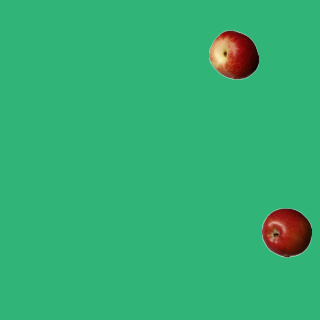Apple Braeburn: (261, 207, 311, 257)
Nectarine: (208, 29, 258, 79)
